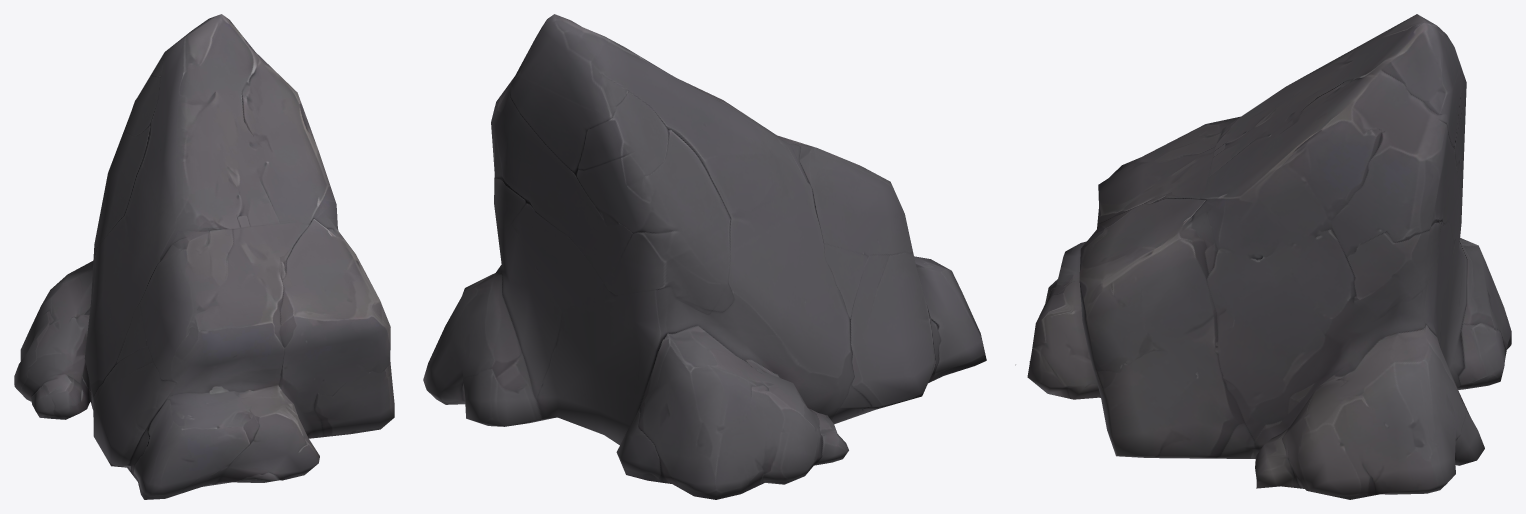
File: rock_boulder.glb
3 views of the same model, side by side, from view 1: azimuth 30°, elevation 25°; view 2: azimuth 150°, elevation 25°; view 3: azimuth 270°, elevation 25° (orthographic). The views are drawn at different scales.
Visible parts, largest first — view 1: tripo_node_d01974f4; view 2: tripo_node_d01974f4; view 3: tripo_node_d01974f4.
Part boxes in pixels (<box>): tripo_node_d01974f4: <box>14,14,394,499</box>; tripo_node_d01974f4: <box>423,14,986,499</box>; tripo_node_d01974f4: <box>1015,14,1511,499</box>.
Bounding box in the file's own units: 2.24 × 2.2 × 2.4.
Materials: 1 (1 with a texture image).
